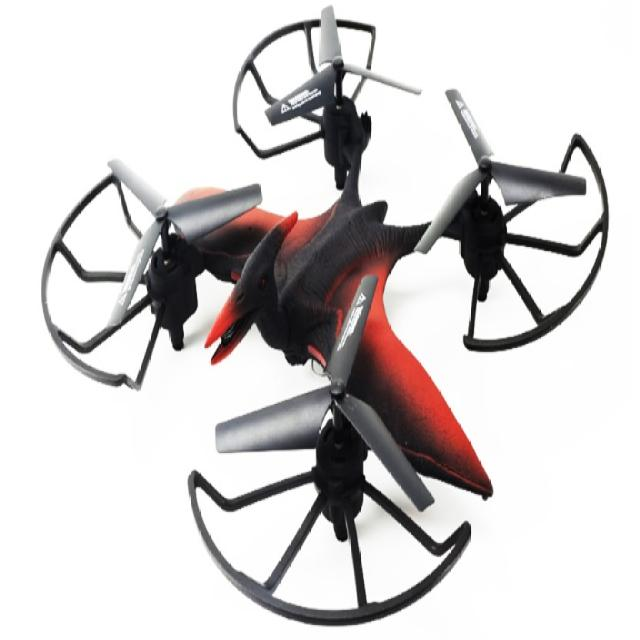drone: (40, 6, 610, 626)
